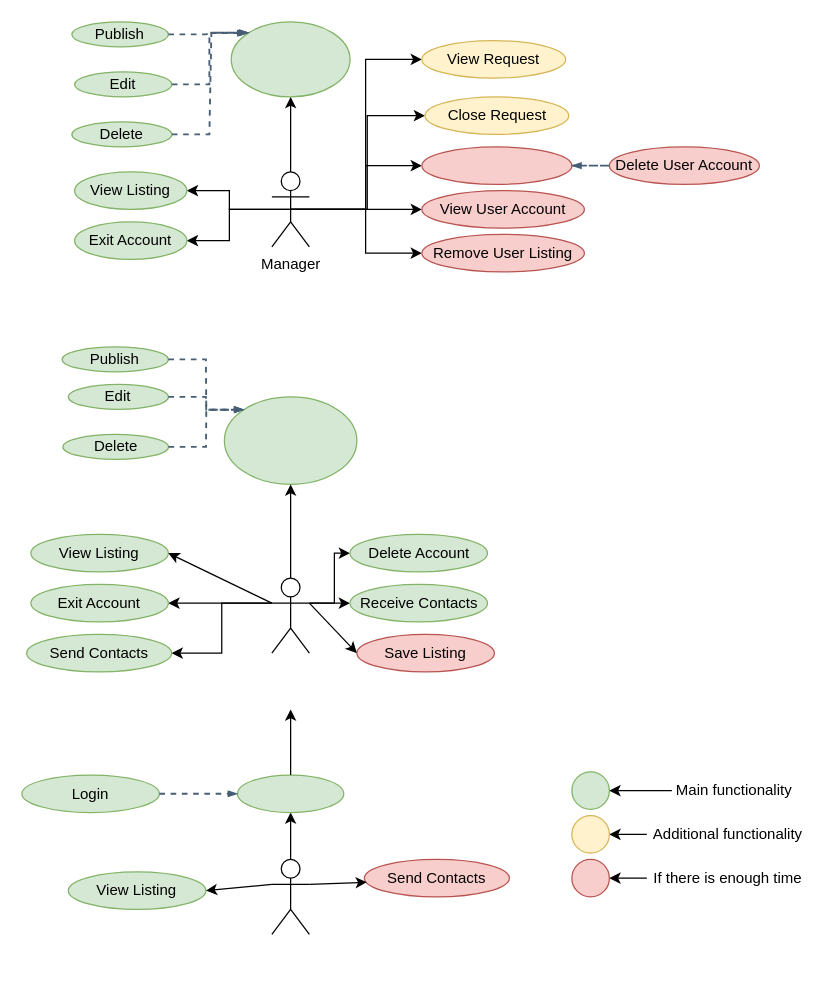
This 831x983 diagram has some shape labels left out. The shapes that lost their labels are listed below. From the top down, each one's centre as x and y in pixels, then its label:
[290,59]: Manage Shelter Listing
[496,165]: Block User Account
[290,440]: Manage Own Listing
[290,615]: User
[290,793]: Register
[290,896]: Guest
